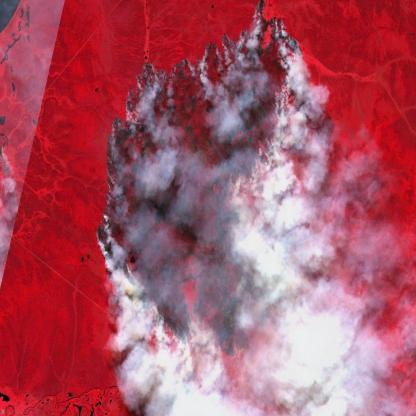fire: (94, 0, 307, 358)
